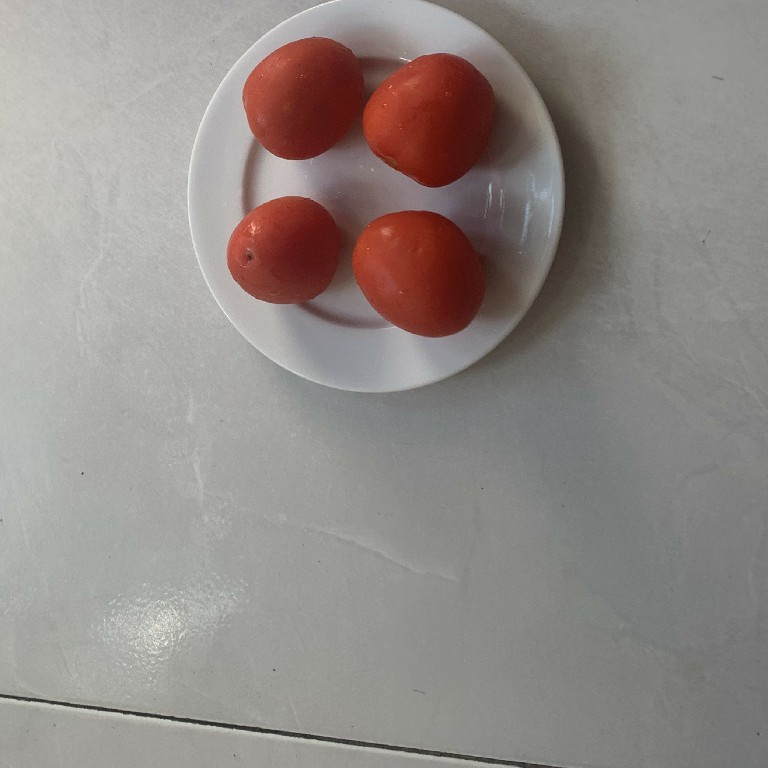OK: (358, 41, 508, 196), (344, 205, 497, 341), (231, 29, 366, 165), (217, 187, 347, 309)
